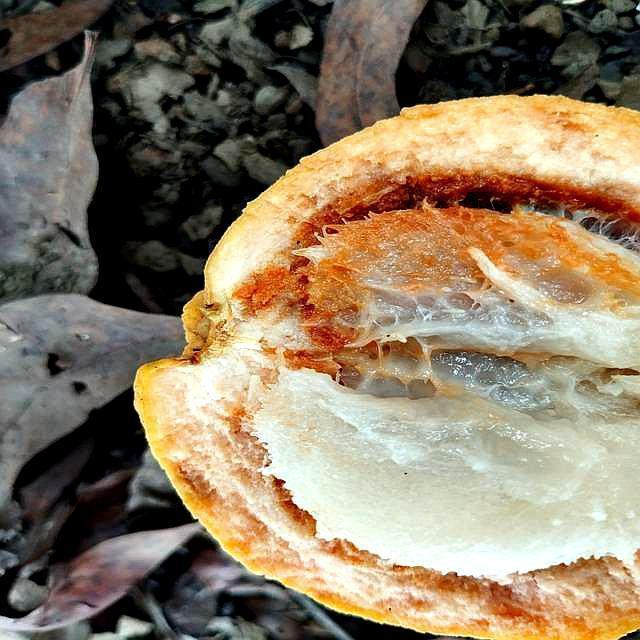Biodegradable: (141, 89, 640, 640)
